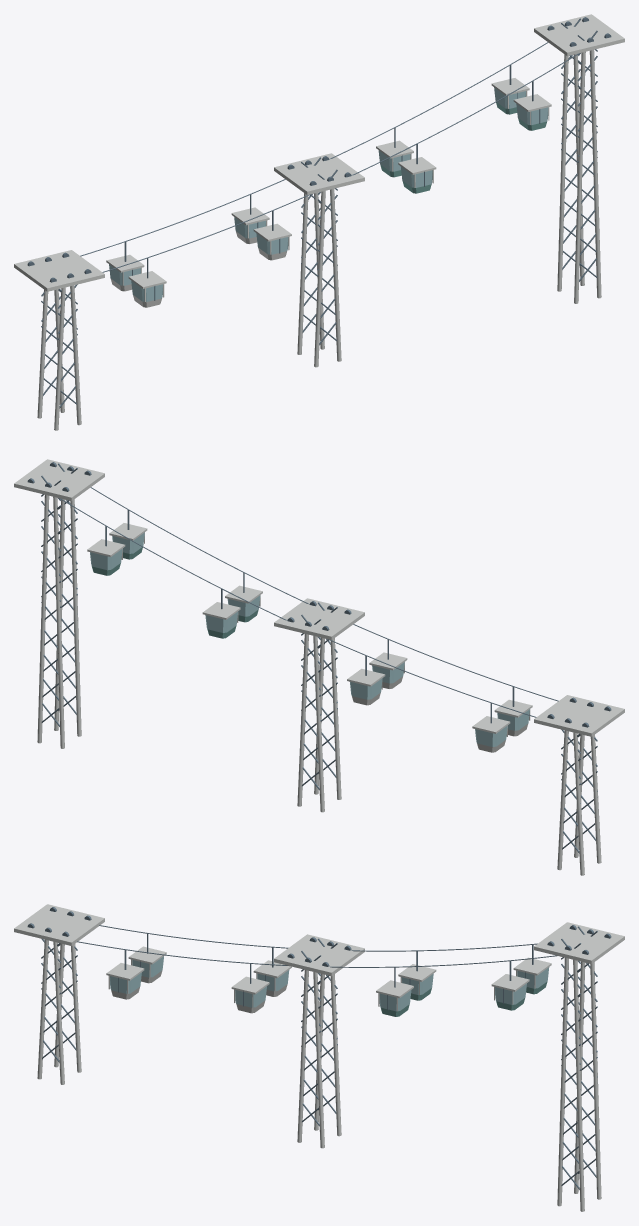
The model's file is gondola.glb.
3 views of the same model, one above another, from view 1: azimuth 30°, elevation 25°; view 2: azimuth 150°, elevation 25°; view 3: azimuth 330°, elevation 25° (orthographic).
Visible parts, largest first — view 1: gondola; view 2: gondola; view 3: gondola.
Boxes of the visible parts, x1,y1,x2,y2 form: gondola: [14, 14, 624, 430]; gondola: [14, 459, 624, 875]; gondola: [14, 904, 624, 1211].
Bounding box in the file's own units: 60 × 26.55 × 6.61.
